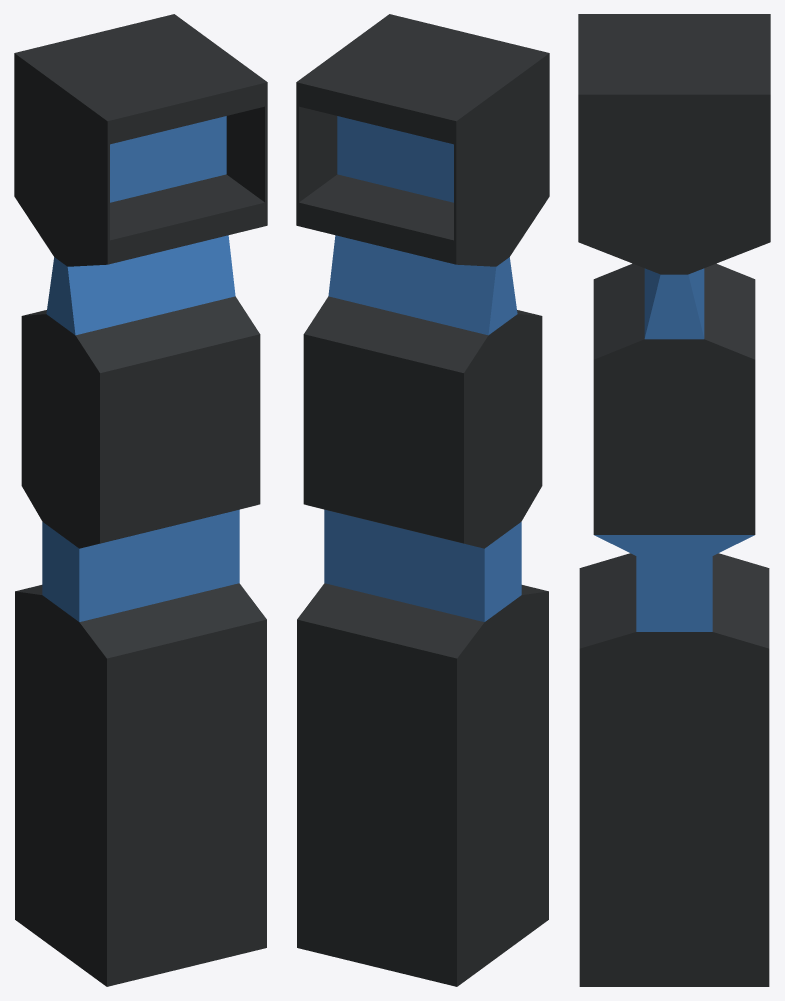
Rendered from Pole.fbx.
The picture shows the model from 3 angles, left to right: view 1: azimuth 30°, elevation 25°; view 2: azimuth 150°, elevation 25°; view 3: azimuth 270°, elevation 25°; orthographic projection. The views are drawn at different scales.
Parts seen in each view (by area): view 1: Cube.148; view 2: Cube.148; view 3: Cube.148.
Part boxes in pixels (x1,y1,x2,y2): Cube.148: (14,14,267,986); Cube.148: (296,14,549,986); Cube.148: (578,14,770,986).
Size of the model in its own units: 47.25 by 244 by 47.64.
